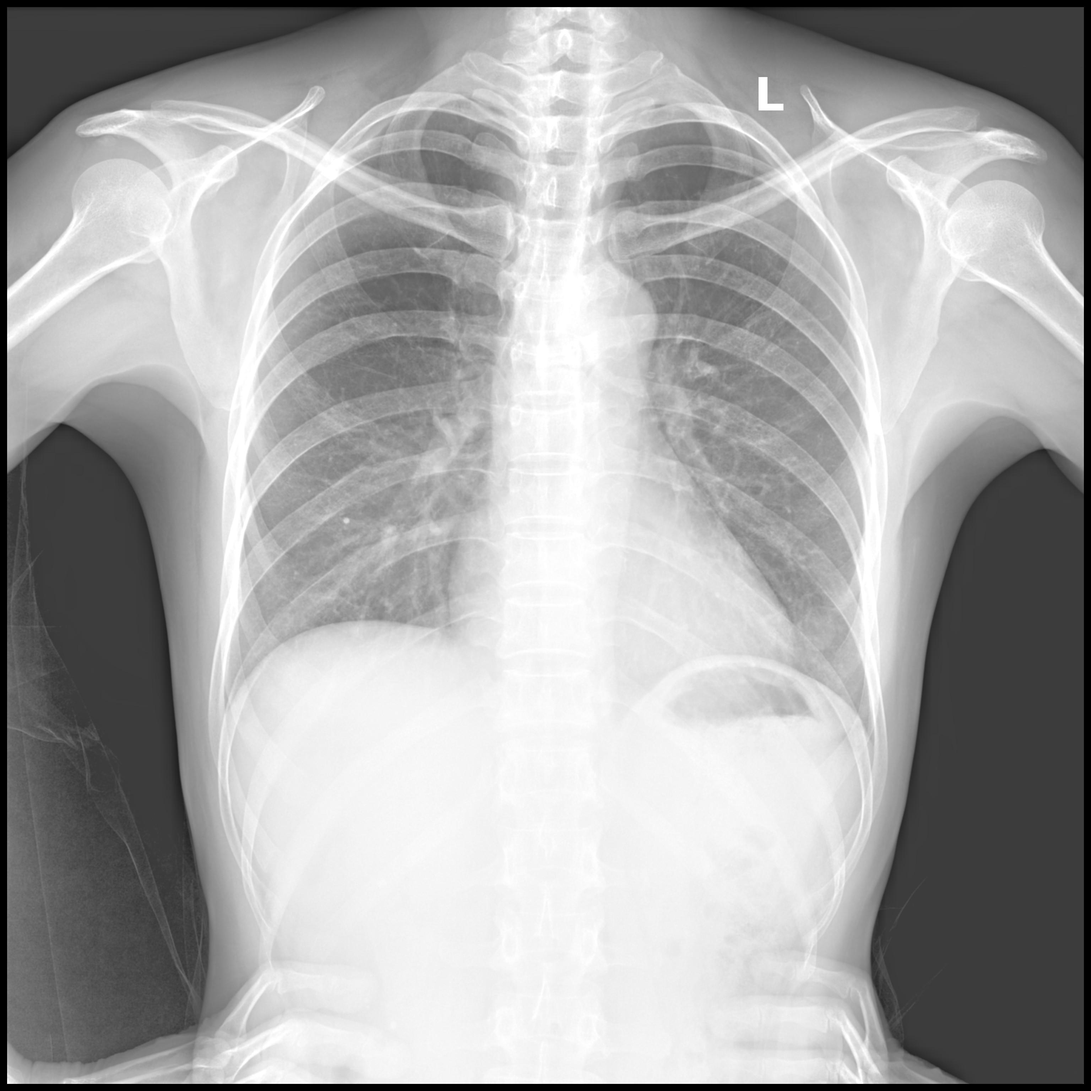Aortic enlargement: (553, 260, 660, 391)
Cardiomegaly: (442, 546, 798, 682)
